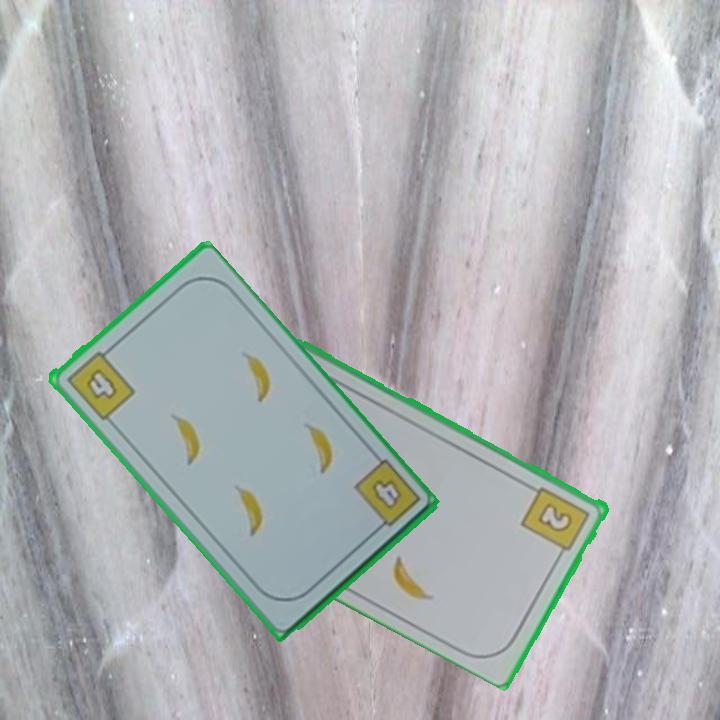2b: (518, 483, 594, 561)
4b: (61, 343, 137, 424), (349, 455, 423, 538)
